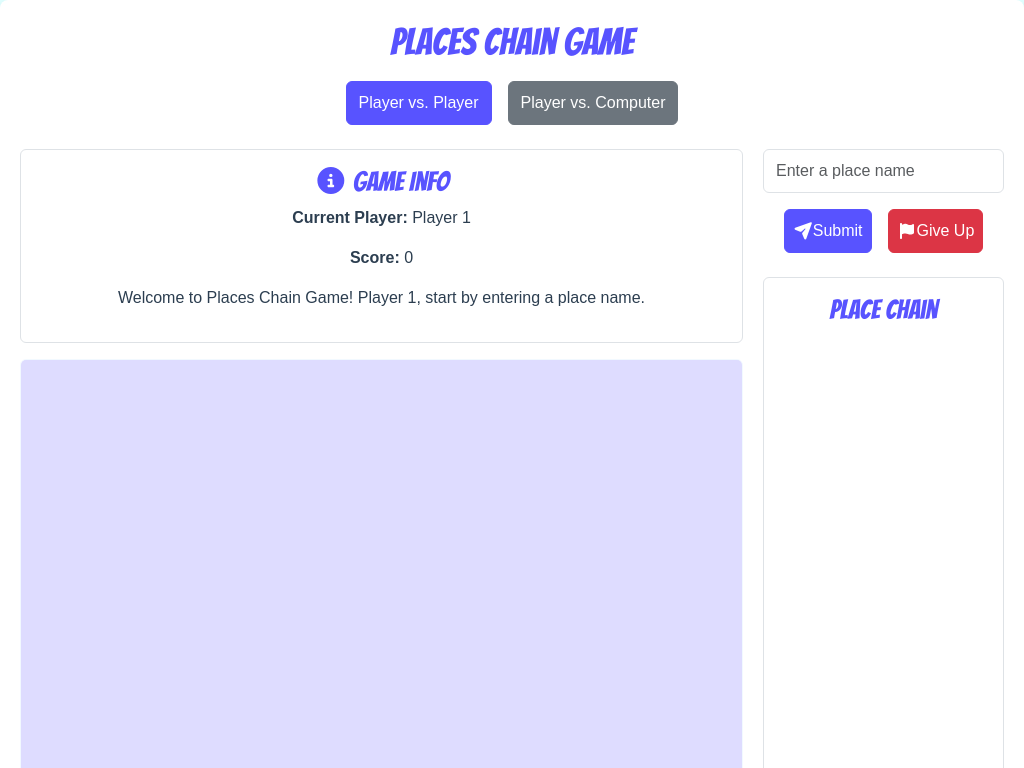
Test case: App › handles giving up
The image size is (1024, 768).
Click the button "Give Up": (935, 231) [888,209,983,253]
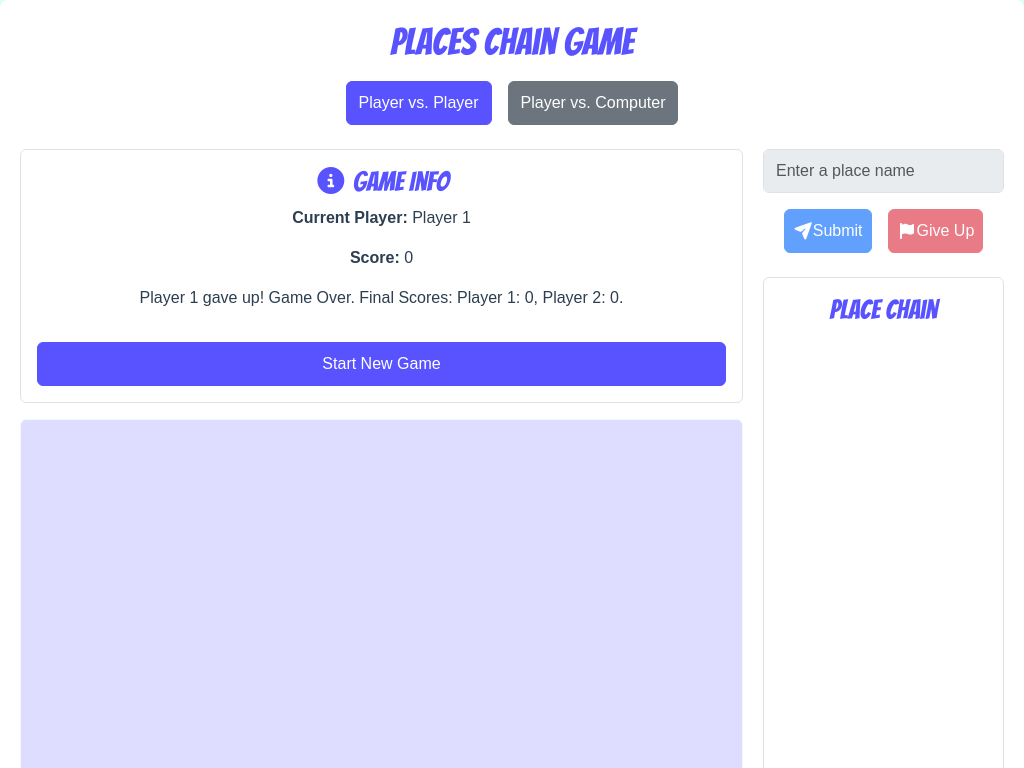
Check: the text "gave up!" is shown, box [140,289,623,306]
